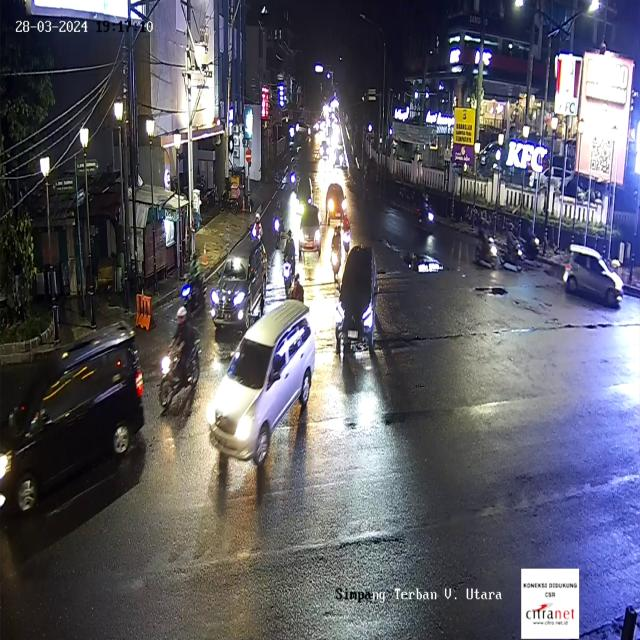car: (0, 331, 145, 527), (205, 298, 315, 468), (214, 230, 266, 328), (334, 245, 378, 354), (564, 244, 626, 309), (298, 200, 322, 257), (294, 172, 316, 218), (326, 183, 344, 224)
motorcycle: (160, 305, 201, 424), (475, 205, 499, 272), (181, 252, 206, 314), (502, 218, 522, 271), (280, 232, 296, 293), (415, 183, 434, 232)
